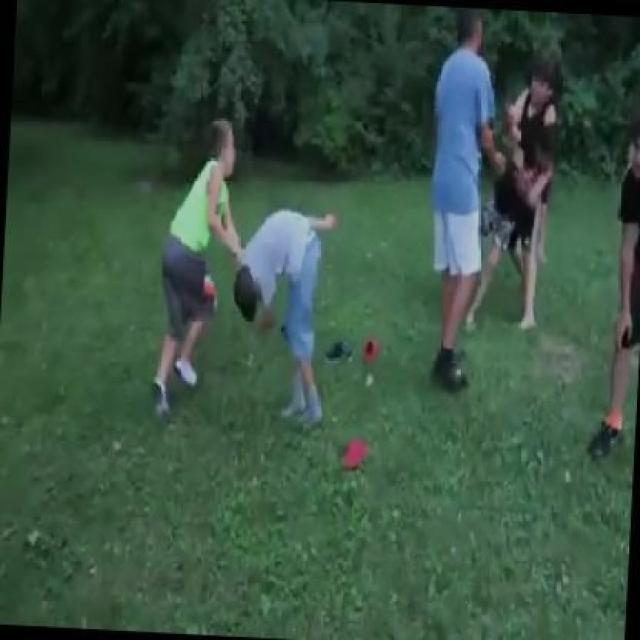fight: (124, 103, 356, 440)
non-fight: (397, 6, 521, 394), (582, 125, 638, 449)
